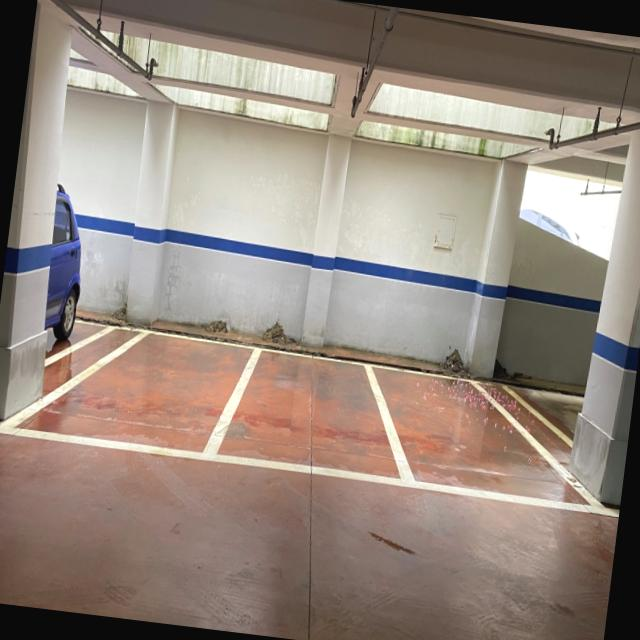free: (363, 357, 609, 515), (0, 327, 262, 466), (201, 339, 418, 493)
